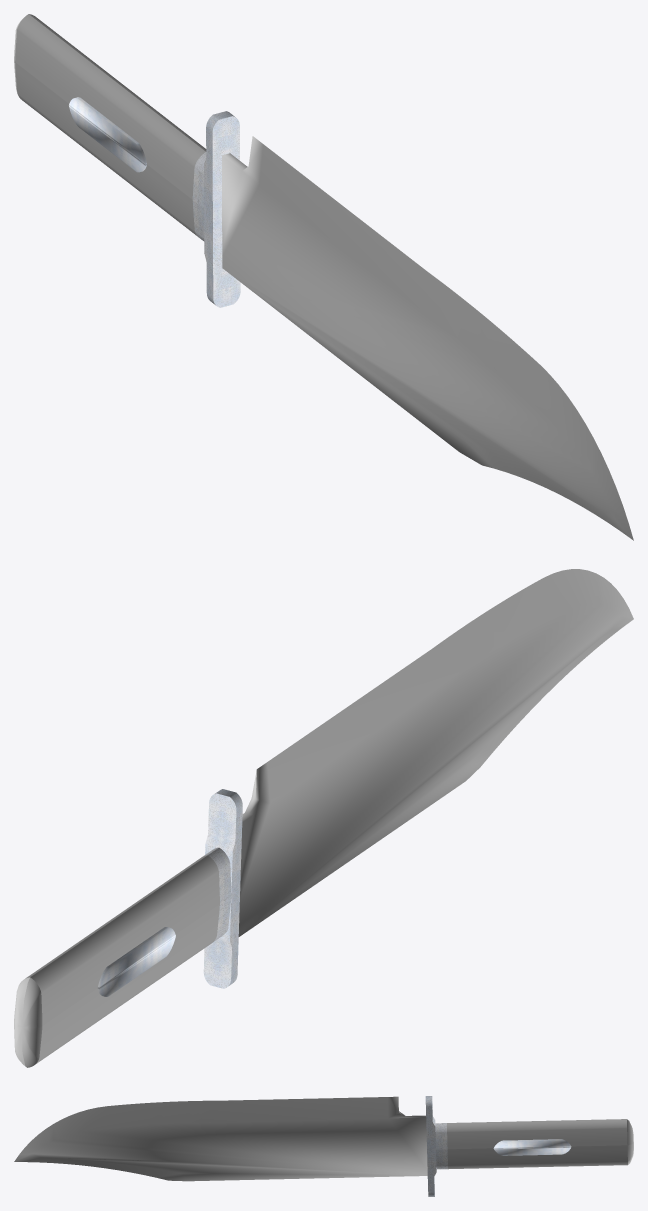
Rendered from model_align.obj.
3 renders of one model, top to bottom at view 1: azimuth 30°, elevation 25°; view 2: azimuth 150°, elevation 25°; view 3: azimuth 270°, elevation 25°, orthographic. The views are drawn at different scales.
Visible parts, largest first — view 1: mesh6_mesh6-geometry, mesh1_mesh1-geometry, mesh3_mesh3-geometry, mesh2_mesh2-geometry, mesh4_mesh4-geometry; view 2: mesh6_mesh6-geometry, mesh1_mesh1-geometry, mesh3_mesh3-geometry, mesh2_mesh2-geometry, mesh4_mesh4-geometry; view 3: mesh5_mesh5-geometry, mesh3_mesh3-geometry, mesh1_mesh1-geometry, mesh4_mesh4-geometry, mesh2_mesh2-geometry.
Boxes of the visible parts, x1,y1,x2,y2 form: mesh6_mesh6-geometry: (221, 136, 633, 540); mesh1_mesh1-geometry: (14, 14, 240, 305); mesh3_mesh3-geometry: (14, 14, 239, 307); mesh2_mesh2-geometry: (69, 97, 146, 164); mesh4_mesh4-geometry: (69, 106, 146, 172); mesh6_mesh6-geometry: (238, 569, 633, 936); mesh1_mesh1-geometry: (14, 790, 242, 1067); mesh3_mesh3-geometry: (14, 789, 240, 1067); mesh2_mesh2-geometry: (98, 927, 175, 988); mesh4_mesh4-geometry: (98, 936, 175, 996); mesh5_mesh5-geometry: (14, 1096, 427, 1181); mesh3_mesh3-geometry: (425, 1097, 633, 1192); mesh1_mesh1-geometry: (425, 1096, 633, 1196); mesh4_mesh4-geometry: (493, 1139, 571, 1148); mesh2_mesh2-geometry: (494, 1147, 571, 1155).
Size of the model in its own units: 0.00651 by 0.0387 by 0.2221.
